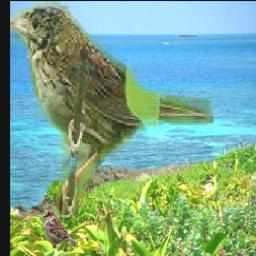Sparrow: (10, 2, 214, 224), (44, 211, 77, 250)
